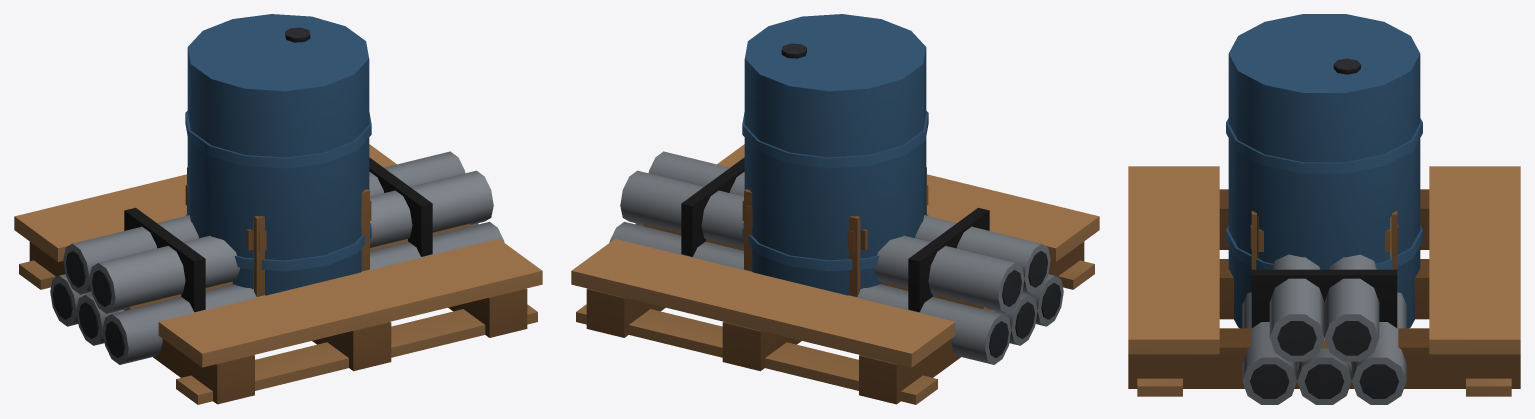
Rendered from props.glb.
3 views of the same model, side by side, from view 1: azimuth 30°, elevation 25°; view 2: azimuth 150°, elevation 25°; view 3: azimuth 270°, elevation 25° (orthographic). The views are drawn at different scales.
Parts seen in each view (by area): view 1: prop_drum_blue_mesh, prop_pallet_mesh, prop_pipe_bundle_mesh, prop_crate_mesh; view 2: prop_drum_blue_mesh, prop_pallet_mesh, prop_pipe_bundle_mesh, prop_crate_mesh; view 3: prop_pallet_mesh, prop_drum_blue_mesh, prop_pipe_bundle_mesh, prop_crate_mesh.
Part boxes in pixels (x1,y1,x2,y2): prop_drum_blue_mesh: (185,14,371,295); prop_pallet_mesh: (14,144,542,404); prop_pipe_bundle_mesh: (50,151,504,364); prop_crate_mesh: (185,167,371,296); prop_drum_blue_mesh: (742,14,928,295); prop_pallet_mesh: (571,144,1099,404); prop_pipe_bundle_mesh: (609,151,1063,364); prop_crate_mesh: (742,167,928,296); prop_pallet_mesh: (1128,166,1520,396); prop_drum_blue_mesh: (1226,14,1422,328); prop_pipe_bundle_mesh: (1242,254,1406,404); prop_crate_mesh: (1250,211,1398,269).
Size of the model in its own units: 1.01 by 0.641 by 0.86.
